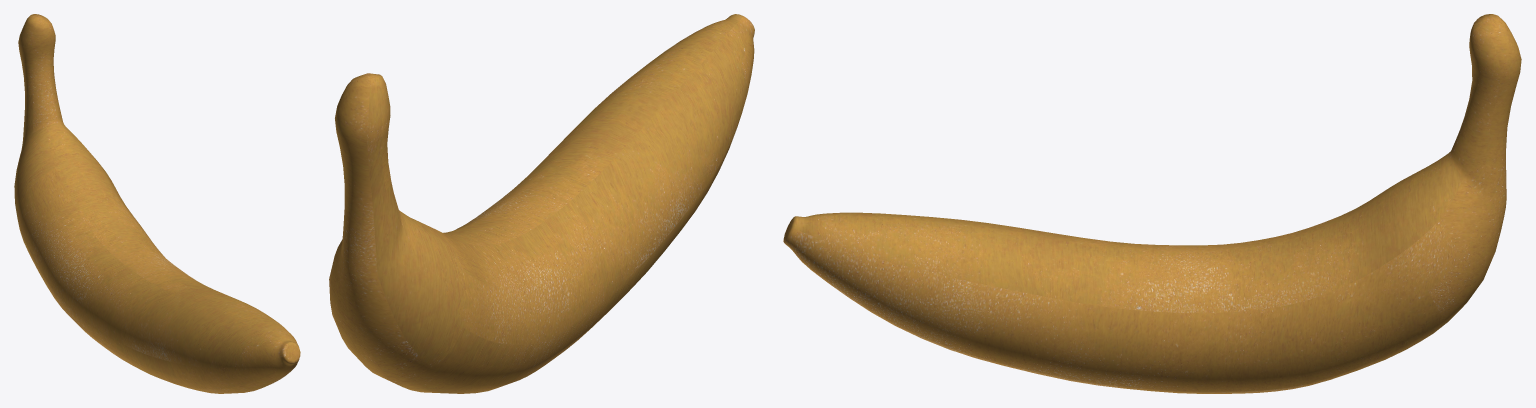
The model's file is banana.fbx.
The picture shows the model from 3 angles, left to right: view 1: azimuth 30°, elevation 25°; view 2: azimuth 150°, elevation 25°; view 3: azimuth 270°, elevation 25°; orthographic projection. The views are drawn at different scales.
Parts seen in each view (by area): view 1: Cylinder; view 2: Cylinder; view 3: Cylinder.
Part boxes in pixels (x1,y1,x2,y2): Cylinder: (14, 14, 300, 393); Cylinder: (329, 14, 754, 393); Cylinder: (783, 14, 1521, 393).
Size of the model in its own units: 79.82 by 208 by 377.
